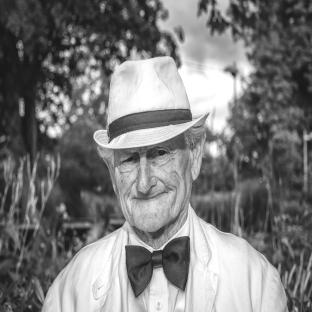Human: (43, 56, 287, 312)
